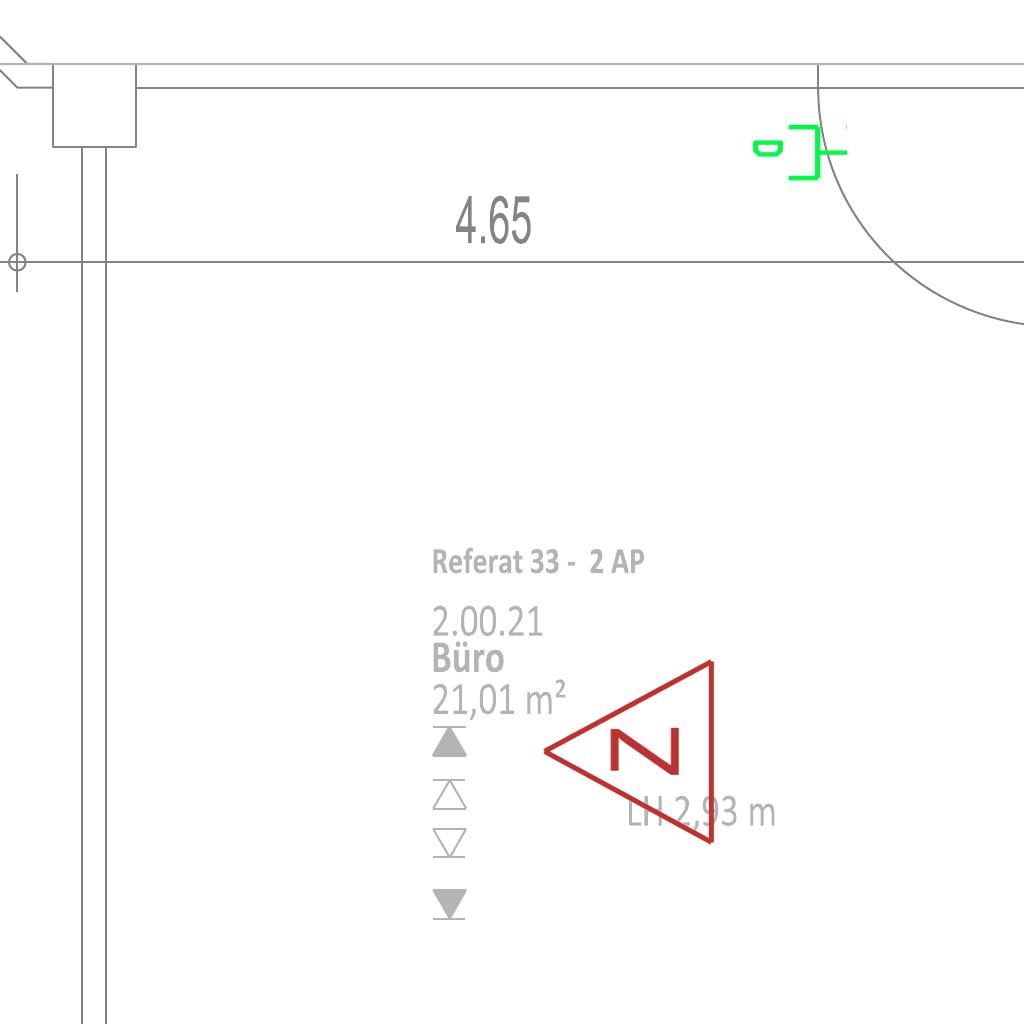Datenanschluss_einfach: (750, 120, 850, 189)
Zimmersignalleuchte: (529, 656, 729, 852)
